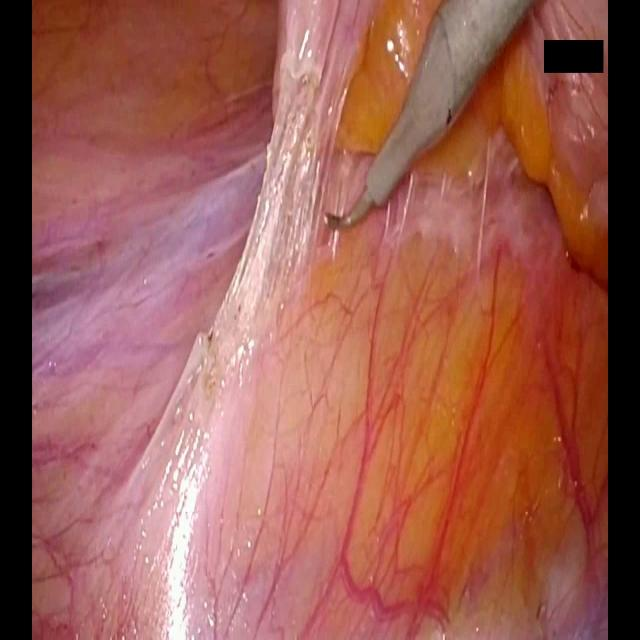surgical-area: (30, 0, 608, 639)
surgical-tool: (324, 0, 534, 231)
